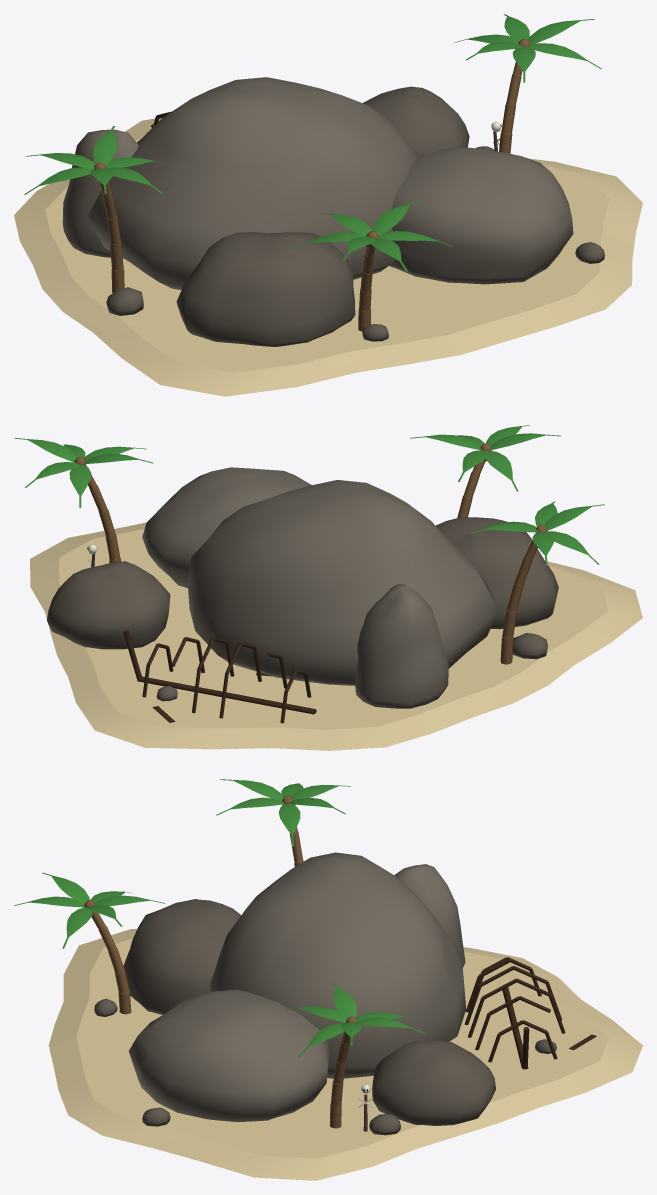
File: rock-islet.glb
The picture shows the model from 3 angles, top to bottom: view 1: azimuth 30°, elevation 25°; view 2: azimuth 150°, elevation 25°; view 3: azimuth 270°, elevation 25°; orthographic projection. The views are drawn at different scales.
Visible parts, largest first — view 1: Mesh_Sand, Mesh_RockMain, Mesh_RockEast, Mesh_RockNorth, Mesh_RockSouth, Mesh_RockSpire, Mesh_Pebble2, Mesh_Frond2_0Under, Mesh_Frond1_0Under, Mesh_Frond0_0Under; view 2: Mesh_Sand, Mesh_RockMain, Mesh_RockSpire, Mesh_RockSouth, Mesh_RockEast, Mesh_RockNorth, Mesh_WreckKeel, Mesh_Pebble2, Mesh_Frond0_2Under, Mesh_Frond2_3Under, Mesh_Frond0_0Under, Mesh_Frond1_2Under; view 3: Mesh_Sand, Mesh_RockMain, Mesh_RockEast, Mesh_RockNorth, Mesh_RockSouth, Mesh_RockSpire, Mesh_Pebble0.
Part boxes in pixels (left/top/right/bottom): Mesh_Sand: left=14, top=118, right=642, bottom=396; Mesh_RockMain: left=88, top=77, right=417, bottom=289; Mesh_RockEast: left=389, top=147, right=573, bottom=284; Mesh_RockNorth: left=176, top=232, right=355, bottom=346; Mesh_RockSouth: left=363, top=86, right=469, bottom=156; Mesh_RockSpire: left=62, top=129, right=138, bottom=257; Mesh_Pebble2: left=106, top=287, right=143, bottom=315; Mesh_Frond2_0Under: left=93, top=126, right=117, bottom=165; Mesh_Frond1_0Under: left=372, top=200, right=419, bottom=236; Mesh_Frond0_0Under: left=527, top=19, right=594, bottom=45; Mesh_Sand: left=30, top=522, right=642, bottom=750; Mesh_RockMain: left=187, top=480, right=498, bottom=685; Mesh_RockSpire: left=355, top=584, right=448, bottom=708; Mesh_RockSouth: left=47, top=561, right=170, bottom=649; Mesh_RockEast: left=142, top=467, right=311, bottom=587; Mesh_RockNorth: left=436, top=517, right=558, bottom=629; Mesh_WreckKeel: left=137, top=676, right=316, bottom=714; Mesh_Pebble2: left=512, top=633, right=547, bottom=659; Mesh_Frond0_2Under: left=69, top=464, right=91, bottom=507; Mesh_Frond2_3Under: left=544, top=504, right=604, bottom=530; Mesh_Frond0_0Under: left=14, top=438, right=77, bottom=462; Mesh_Frond1_2Under: left=485, top=451, right=518, bottom=491; Mesh_Sand: left=48, top=928, right=642, bottom=1180; Mesh_RockMain: left=210, top=852, right=466, bottom=1078; Mesh_RockEast: left=128, top=989, right=329, bottom=1121; Mesh_RockNorth: left=123, top=899, right=241, bottom=1014; Mesh_RockSouth: left=372, top=1040, right=495, bottom=1125; Mesh_RockSpire: left=394, top=864, right=465, bottom=967; Mesh_Pebble0: left=369, top=1114, right=400, bottom=1135.
Bounding box in the file's own units: 32.23 × 8.31 × 31.47.
